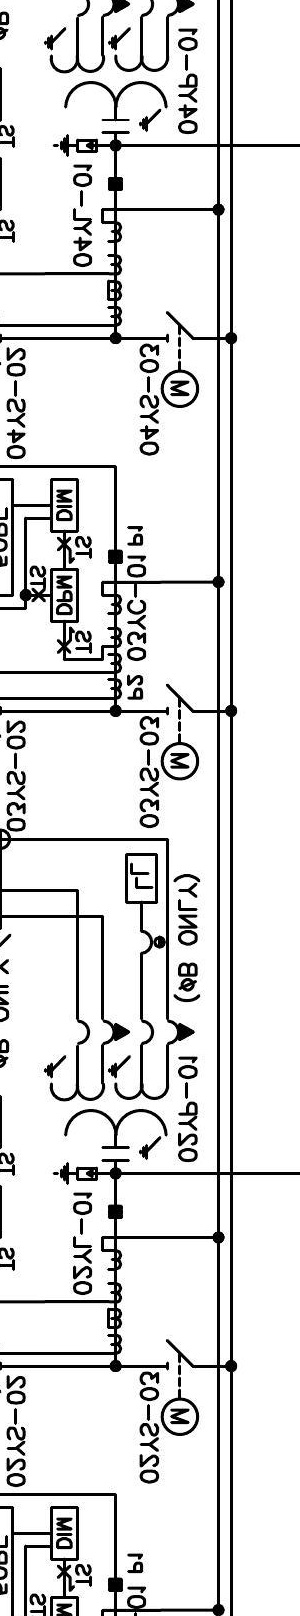115_1way_ds_w_motor: (160, 1338, 201, 1437), (160, 683, 201, 781), (160, 310, 200, 409)
115_cvt_1p: (42, 1017, 196, 1163)
115_la: (52, 134, 98, 158), (53, 1161, 98, 1185)
DIM: (49, 1506, 79, 1561), (51, 477, 79, 534)
DPM: (49, 568, 79, 624)
LL: (125, 852, 159, 904)
